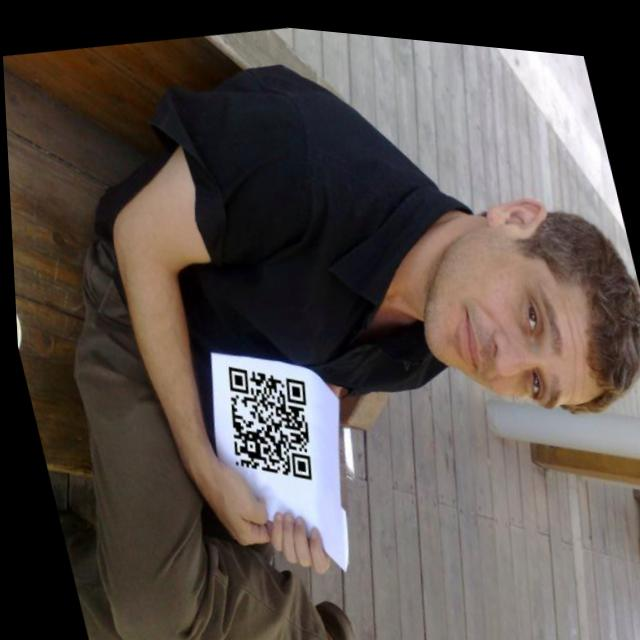qrcode: (208, 348, 323, 489)
